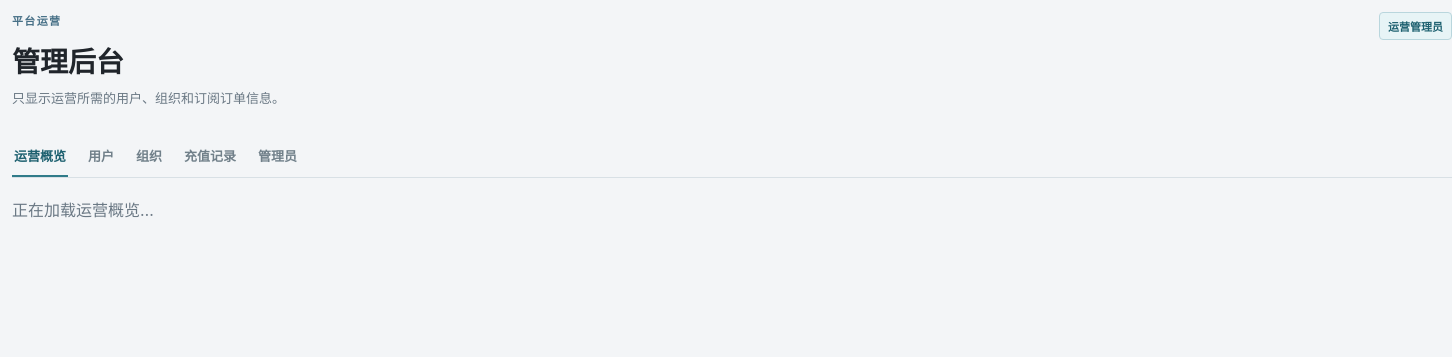
Test case: withholds administrator mutations from operators
This screenshot has width=1452, height=357.
Click the button "管理员" at (278, 157), box [256,137,299,177]
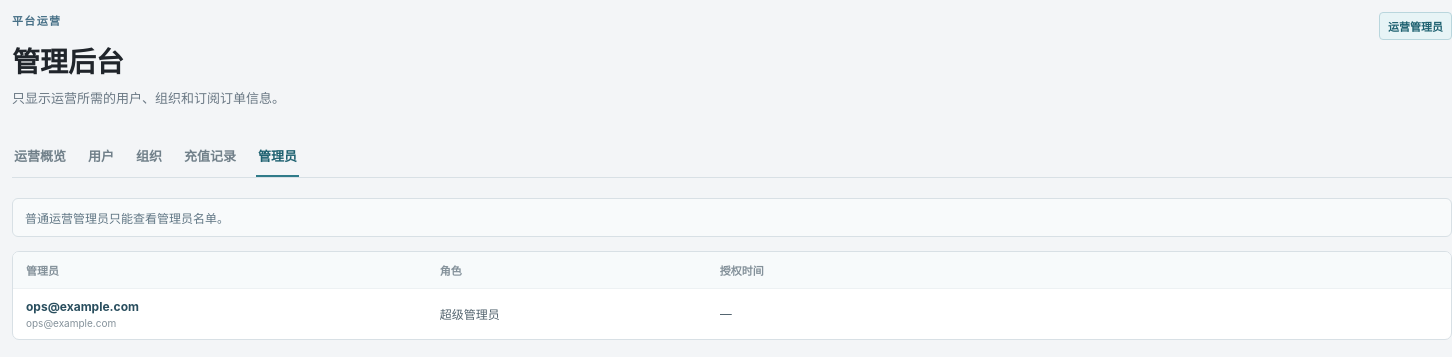
Now the table named "平台管理员" is shown, box [12,251,1451,340]
Now the text "普通运营管理员只能查看管理员名单。" is shown, box [12,198,1451,237]
